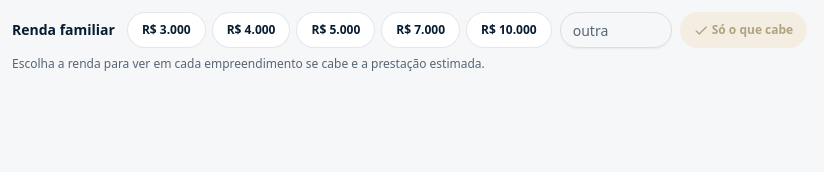
Scenario: RendaCliente › o campo livre aceita a renda que não está nos chips, e limpa
The image size is (824, 172).
Type "4.500" into the field labelled "Renda familiar".
click(616, 30); type("4.500")  # box [560,12,672,48]
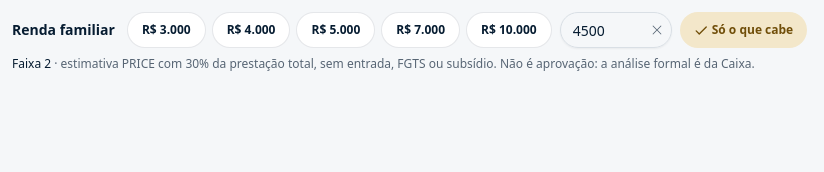
Expected: the field labelled "Renda familiar" holds "4500", [560,12,672,48]
Expected: the text "estimativa PRICE" is shown, [51,55,755,72]
Click the button named "Limpar renda".
click(657, 30)  # box [650,23,664,37]
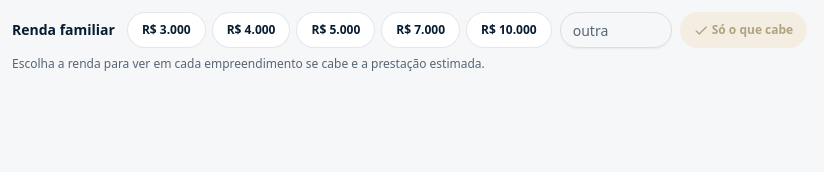
Expected: the field labelled "Renda familiar" is empty, [560,12,672,48]
Expected: the text "Escolha a renda para ver em cada empreendimento" is shown, [12,55,485,72]
